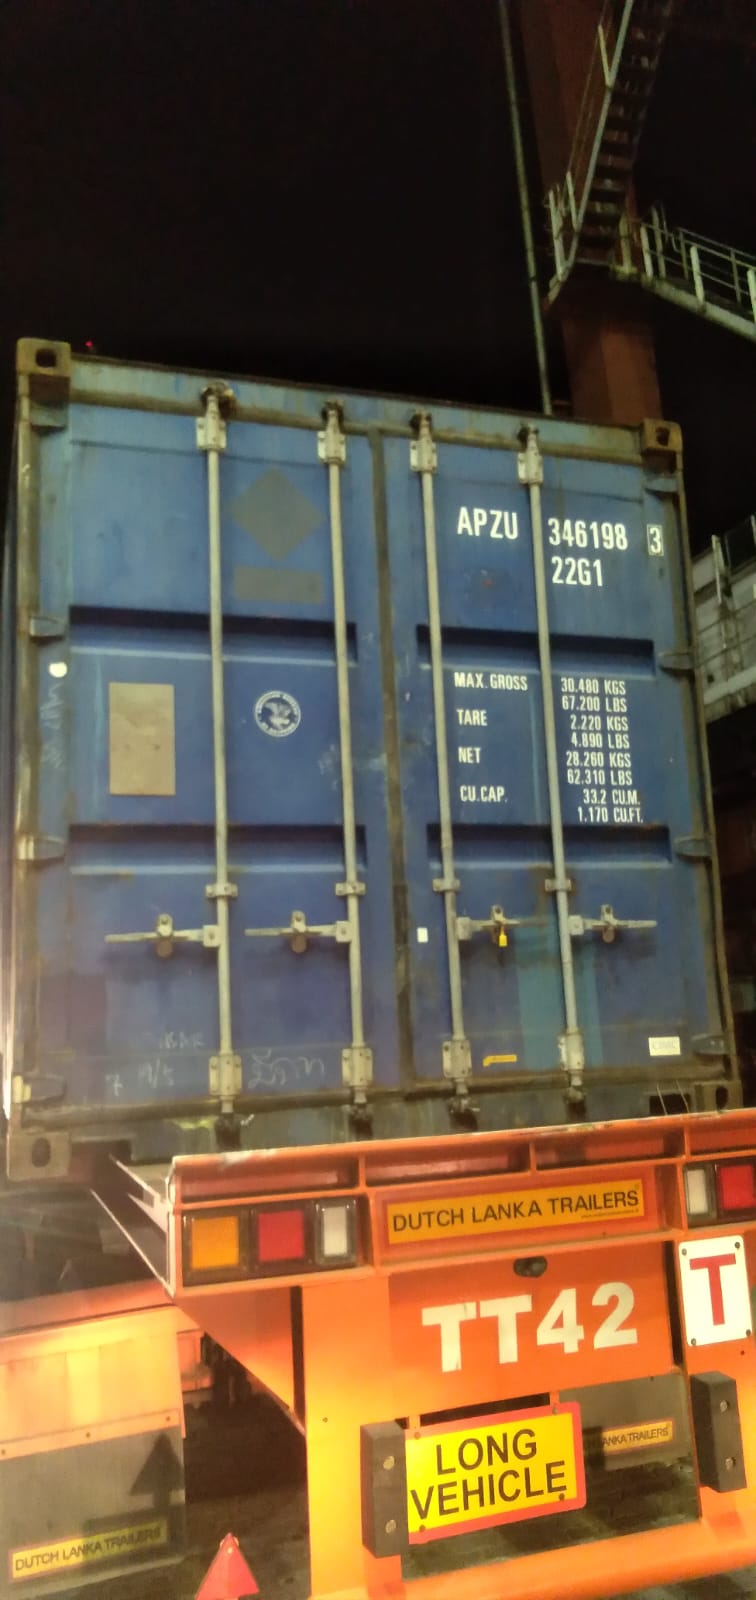rear_side: (9, 341, 747, 1100)
